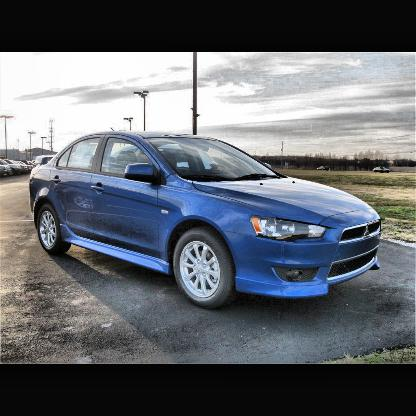Mitsubishi Lancer Sedan 2012: (28, 131, 384, 315)
